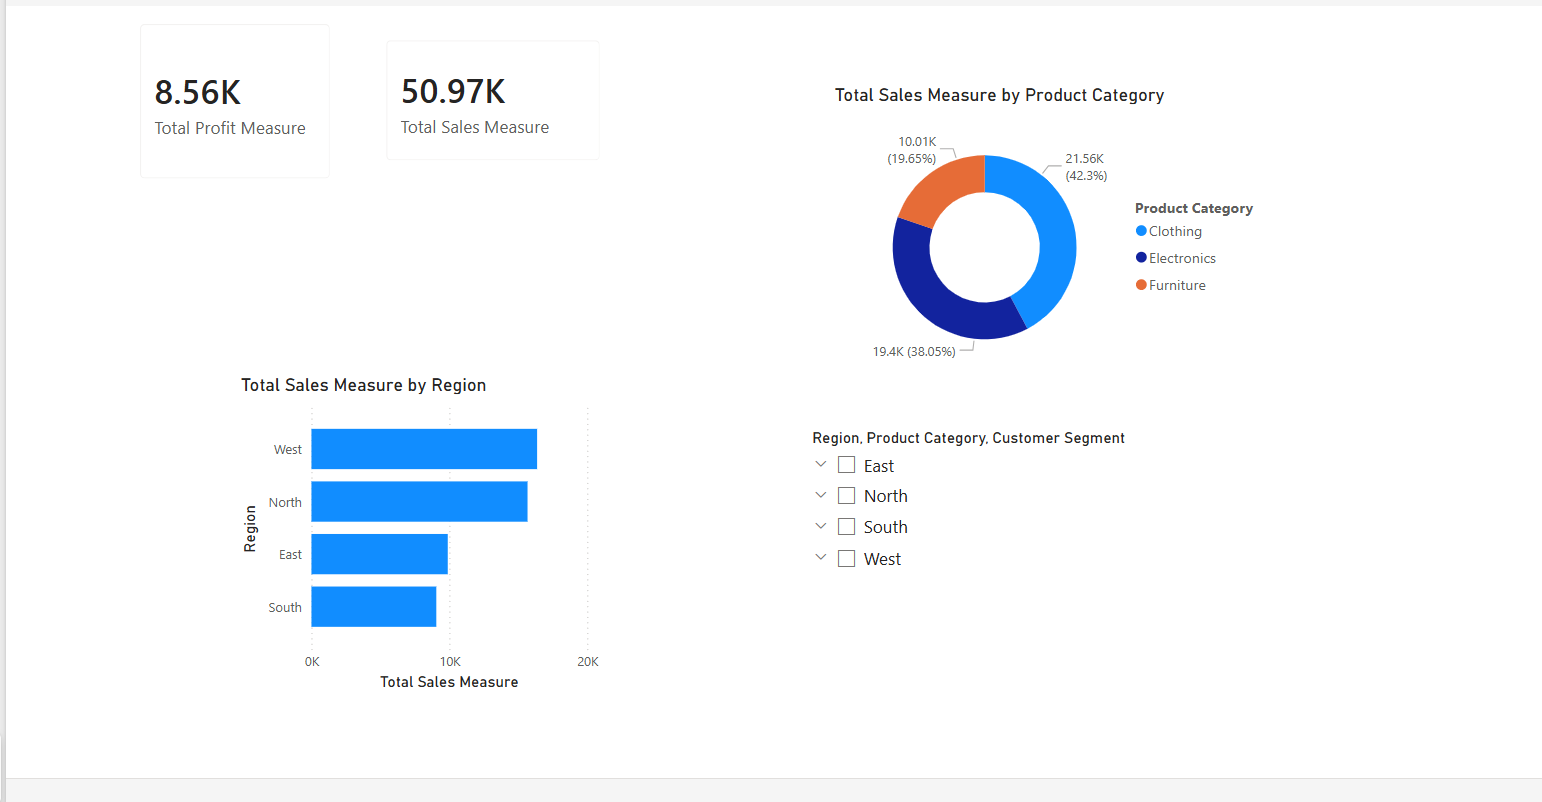

What the dashboard file says about the page in this screenshot:
{"tool":"powerbi","page":{"name":"Page 1","canvas":[1280,720],"ordinal":0},"visuals":[{"type":"cardVisual","fields":{"Data":["Sheet1.Total Profit Measure"]},"box":[9.6,0,211.3,178.4],"z":0},{"type":"cardVisual","fields":{"Data":["Sheet1.Total Sales Measure"]},"box":[238.8,15.1,233.3,146.8],"z":1},{"type":"clusteredBarChart","fields":{"Y":["Sheet1.Total Sales Measure"],"Category":["Sheet1.Region"]},"box":[115.3,343.1,343.1,300.5],"z":2},{"type":"donutChart","fields":{"Category":["Sheet1.Product Category"],"Y":["Sheet1.Total Sales Measure"]},"box":[669.6,72.7,415.8,286.8],"z":3},{"type":"slicer","fields":{"Values":["Sheet1.Region","Sheet1.Product Category","Sheet1.Customer Segment"]},"box":[639.5,389.7,478.9,271.7],"z":4}]}

Visuals, with their boxes on the page's 1280x720 design canvas (x1, y1, x2, y2). These are canvas units, not pixel positions in the 1542x802 screenshot, which may show the page scaled, cropped or inside an application window:
cardVisual - Sheet1.Total Profit Measure: l=10, t=0, r=221, b=178
cardVisual - Sheet1.Total Sales Measure: l=239, t=15, r=472, b=162
clusteredBarChart - Sheet1.Total Sales Measure x Sheet1.Region: l=115, t=343, r=458, b=644
donutChart - Sheet1.Product Category x Sheet1.Total Sales Measure: l=670, t=73, r=1085, b=360
slicer - Sheet1.Region x Sheet1.Product Category: l=640, t=390, r=1118, b=661
